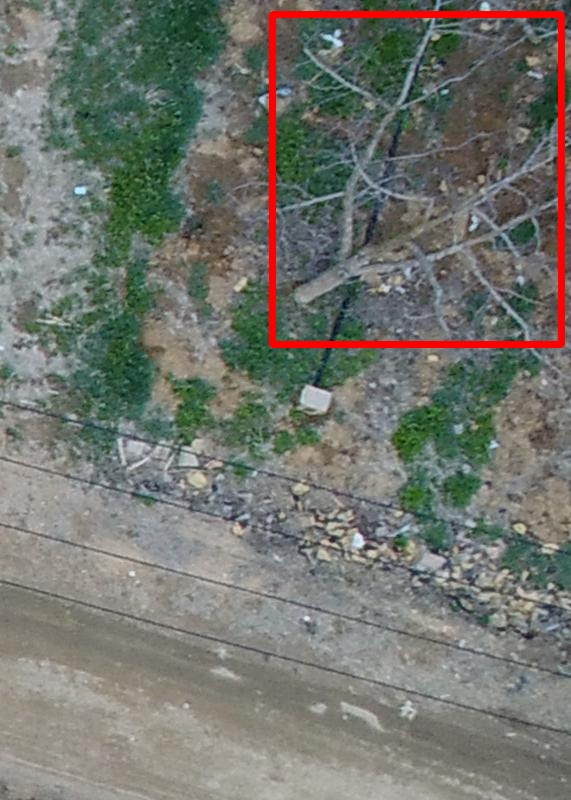apple: (272, 14, 561, 344)
